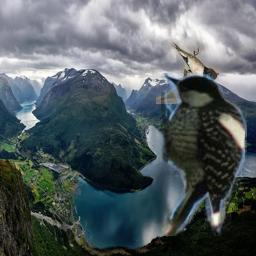Swallow: (156, 32, 219, 104)
Woodpecker: (161, 73, 247, 236)
